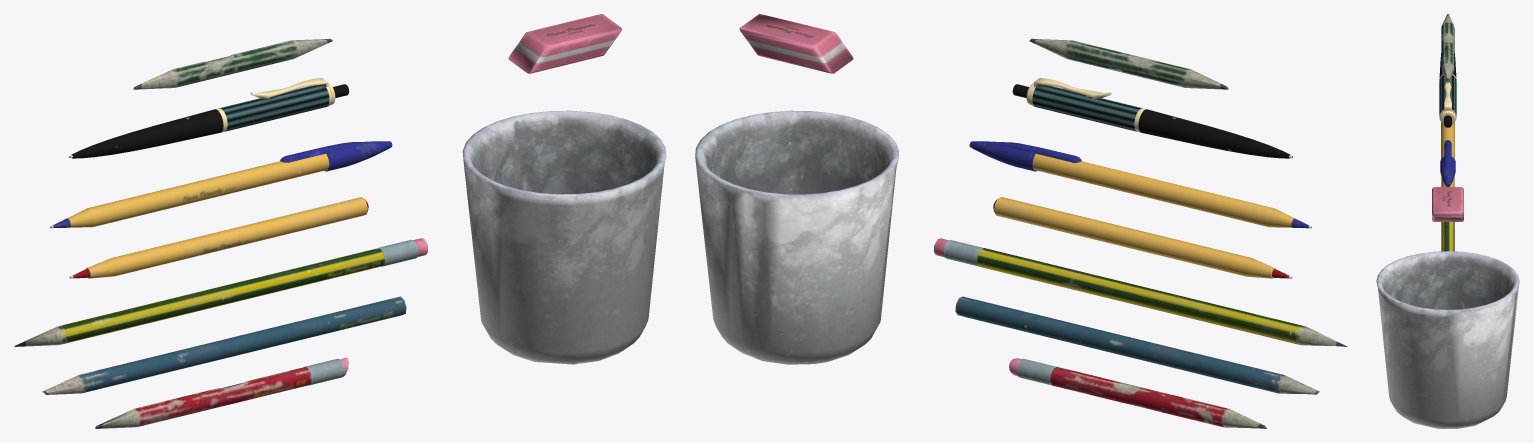
The model's file is stationery_supplies.glb.
3 views of the same model, side by side, from view 1: azimuth 30°, elevation 25°; view 2: azimuth 150°, elevation 25°; view 3: azimuth 270°, elevation 25° (orthographic). The views are drawn at different scales.
Parts seen in each view (by area): view 1: stationery_supplies_pencilcup, stationery_supplies_pencil_new_a, stationery_supplies_pencil_new_b, stationery_supplies_pen_blue, stationery_supplies_pen_fancy, stationery_supplies_pen_red, stationery_supplies_pencil_used, stationery_supplies_eraser, stationery_supplies_pencil_old; view 2: stationery_supplies_pencilcup, stationery_supplies_pencil_new_a, stationery_supplies_pencil_new_b, stationery_supplies_pen_blue, stationery_supplies_pen_fancy, stationery_supplies_pen_red, stationery_supplies_pencil_used, stationery_supplies_eraser, stationery_supplies_pencil_old; view 3: stationery_supplies_pencilcup, stationery_supplies_eraser, stationery_supplies_pen_fancy, stationery_supplies_pen_blue, stationery_supplies_pencil_old, stationery_supplies_pencil_new_a.
Boxes of the visible parts, box(x1,y1,x2,y2) form: stationery_supplies_pencilcup: box(462, 110, 666, 364); stationery_supplies_pencil_new_a: box(14, 238, 427, 346); stationery_supplies_pencil_new_b: box(42, 296, 406, 394); stationery_supplies_pen_blue: box(50, 141, 392, 228); stationery_supplies_pen_fancy: box(69, 78, 349, 158); stationery_supplies_pen_red: box(69, 197, 368, 278); stationery_supplies_pencil_used: box(95, 357, 348, 428); stationery_supplies_eraser: box(508, 14, 622, 73); stationery_supplies_pencil_old: box(133, 38, 332, 89); stationery_supplies_pencilcup: box(695, 110, 898, 364); stationery_supplies_pencil_new_a: box(934, 238, 1347, 346); stationery_supplies_pencil_new_b: box(955, 296, 1319, 394); stationery_supplies_pen_blue: box(969, 141, 1311, 228); stationery_supplies_pen_fancy: box(1012, 78, 1292, 158); stationery_supplies_pen_red: box(993, 197, 1292, 278); stationery_supplies_pencil_used: box(1009, 358, 1266, 428); stationery_supplies_eraser: box(739, 14, 853, 73); stationery_supplies_pencil_old: box(1029, 38, 1228, 89); stationery_supplies_pencilcup: box(1376, 251, 1519, 428); stationery_supplies_eraser: box(1432, 187, 1463, 221); stationery_supplies_pen_fancy: box(1439, 53, 1456, 127); stationery_supplies_pen_blue: box(1440, 122, 1455, 186); stationery_supplies_pencil_old: box(1441, 14, 1454, 82); stationery_supplies_pencil_new_a: box(1441, 222, 1454, 251).
Bounding box in the file's own units: 0.3018 × 0.1643 × 0.0836.
Materials: 1 (1 with a texture image).
